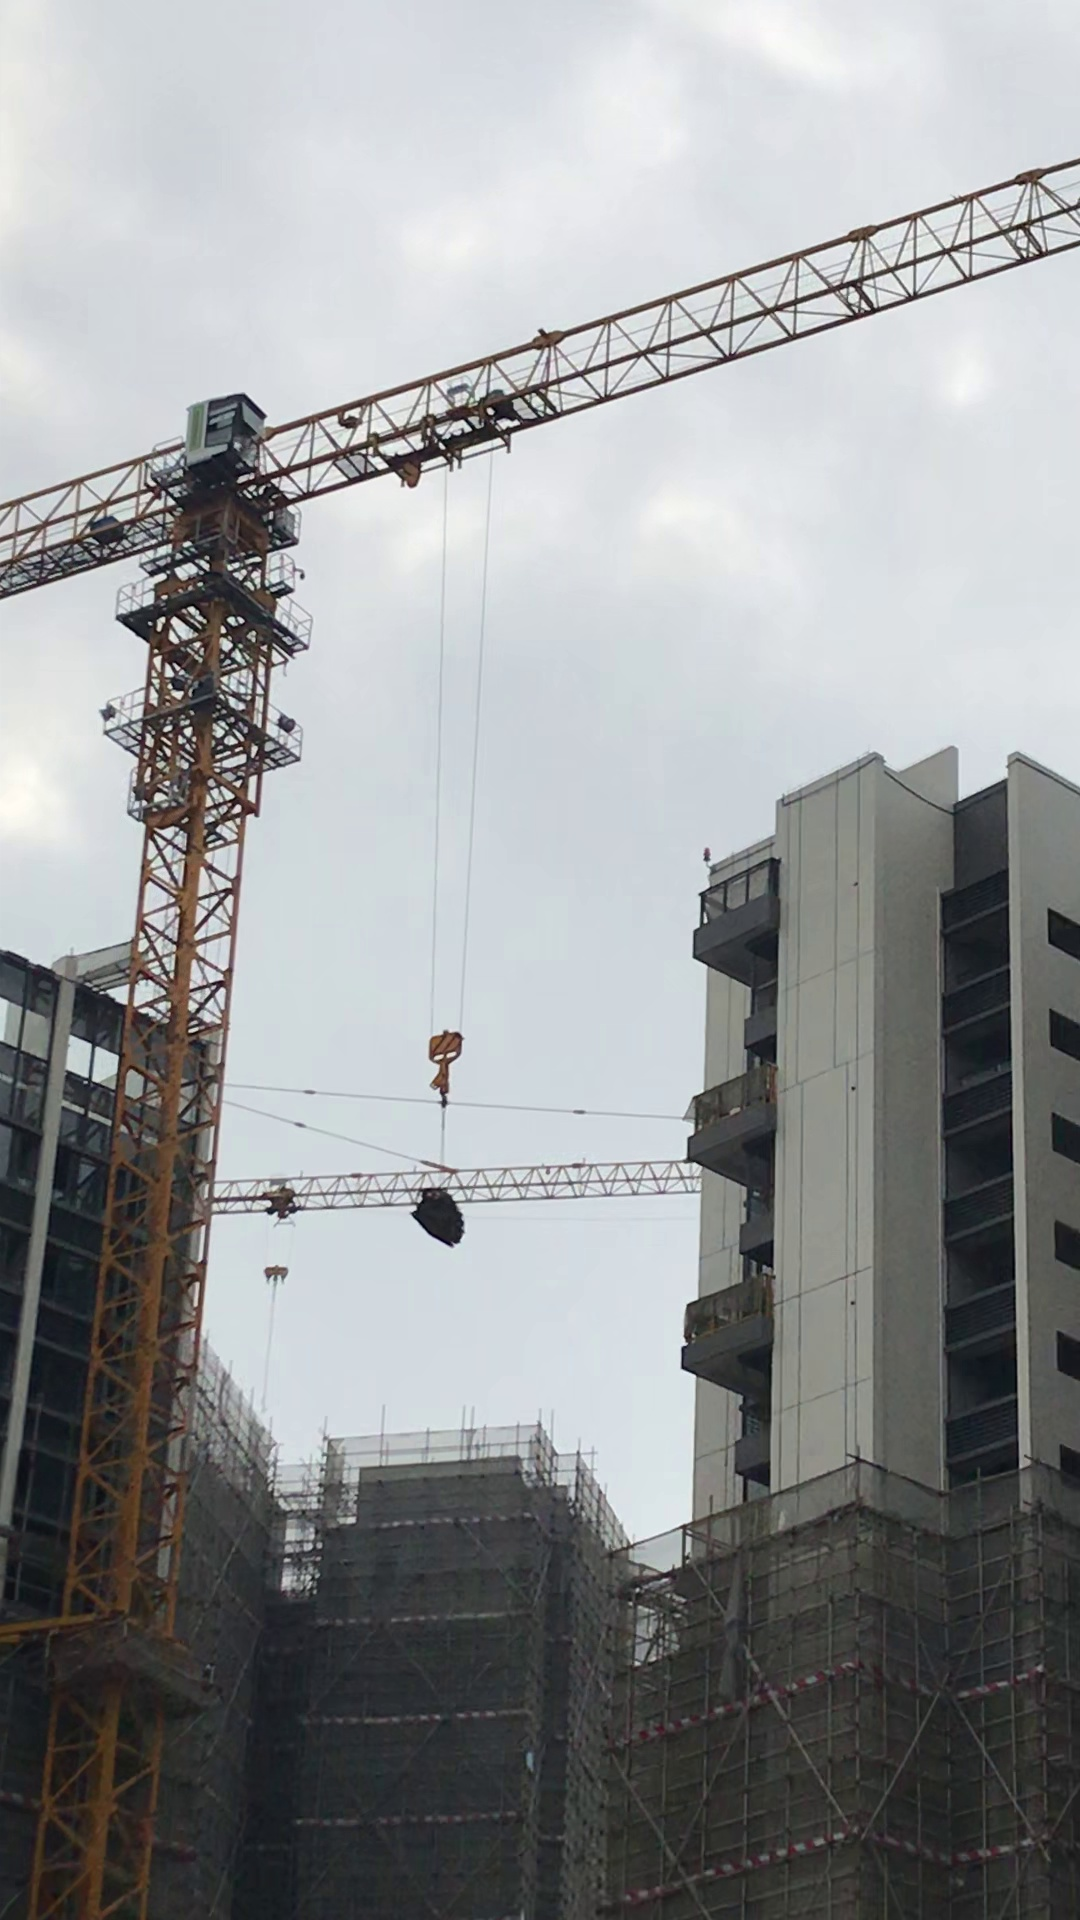hook: (419, 1027, 473, 1118), (258, 1259, 301, 1294)
